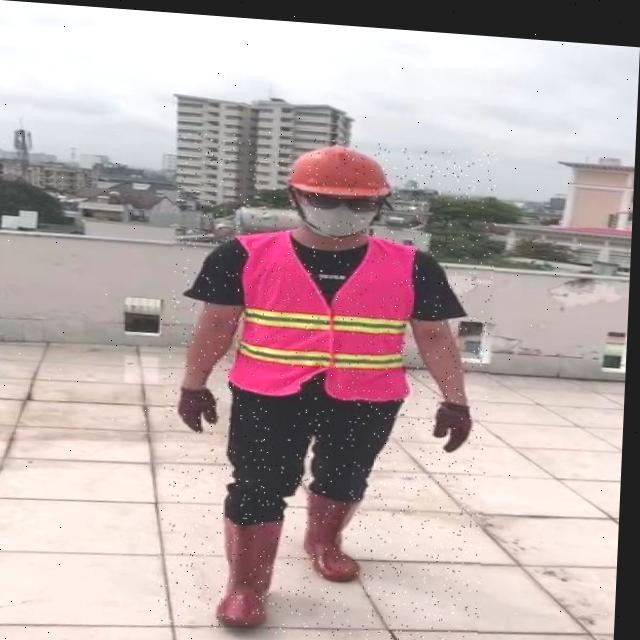Gloves: (436, 393, 476, 446), (180, 382, 223, 430)
Helmet: (286, 136, 395, 236)
Safety-Boot: (219, 506, 287, 625), (306, 482, 368, 577)
Safety-Vest: (228, 219, 421, 399)
